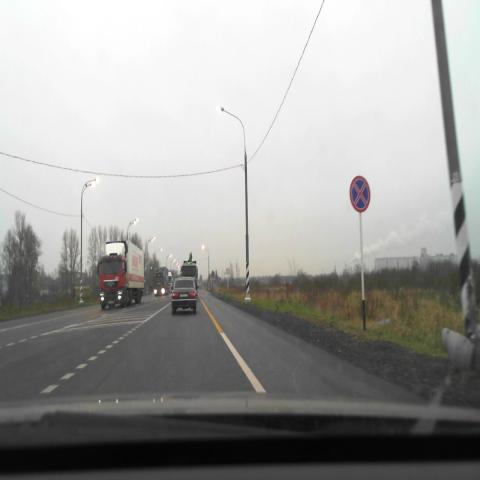3_27: (349, 174, 371, 213)
